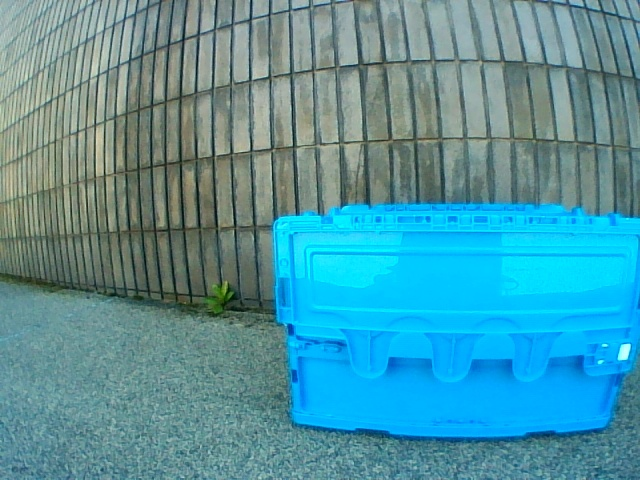blue_box: (274, 203, 640, 439)
